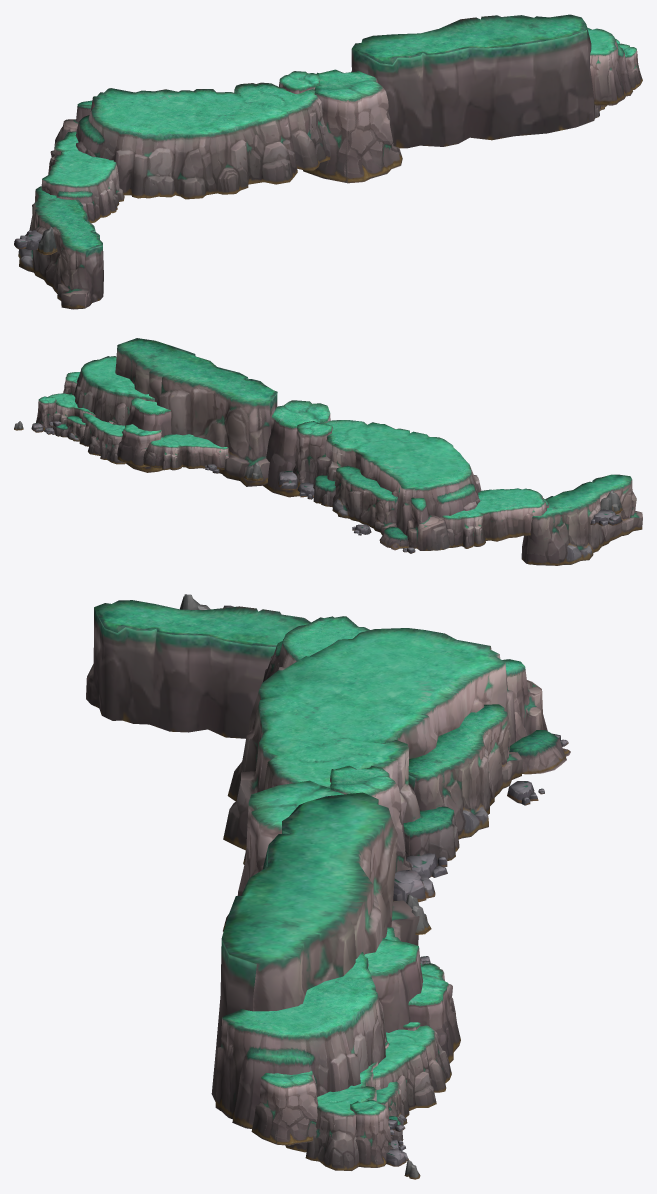
File: yanshi5.fbx
3 renders of one model, top to bottom at view 1: azimuth 30°, elevation 25°; view 2: azimuth 150°, elevation 25°; view 3: azimuth 270°, elevation 25°, orthographic. The views are drawn at different scales.
Parts seen in each view (by area): view 1: yanshi5; view 2: yanshi5; view 3: yanshi5.
Part boxes in pixels (x1,y1,x2,y2): yanshi5: (14,14,642,309); yanshi5: (14,338,642,565); yanshi5: (86,594,570,1179).
Bounding box in the file's own units: 13408 × 2229 × 5029.
